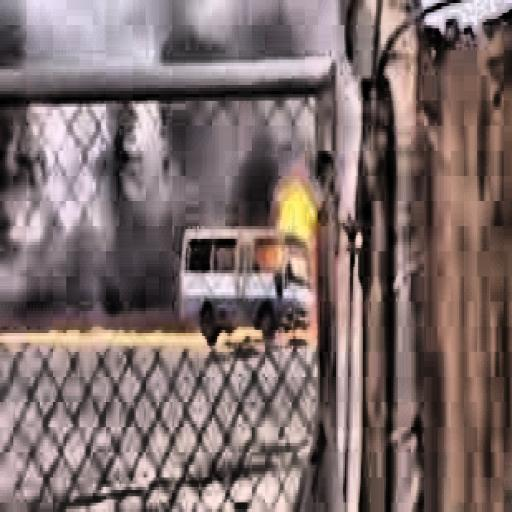fire: (242, 176, 325, 330)
